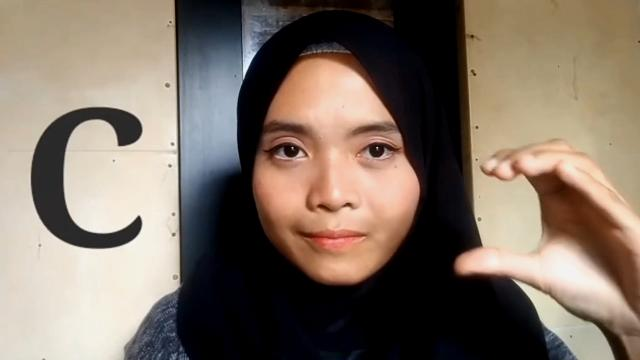C: (450, 136, 640, 336)
